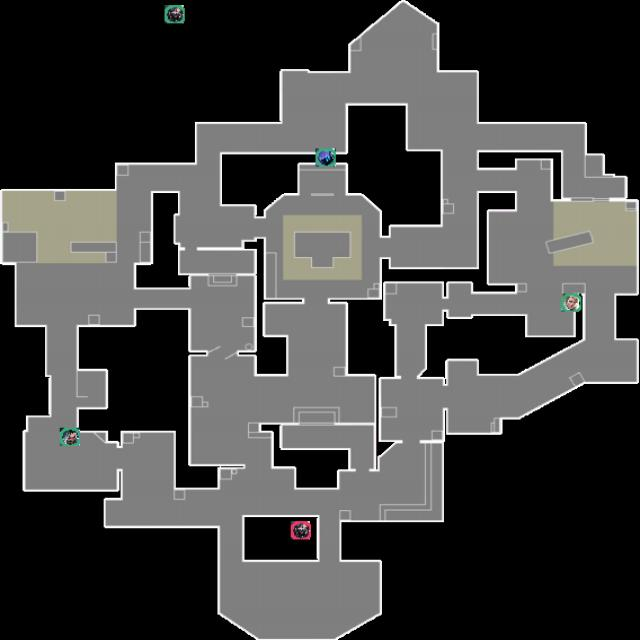atk_viper: (291, 521, 311, 540)
def_fade: (60, 428, 80, 446)
def_omen: (315, 148, 336, 167)
def_sova: (561, 293, 582, 312)
def_viper: (164, 5, 185, 23)
